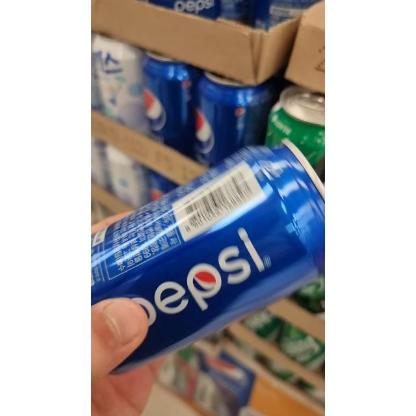Can: (91, 136, 323, 376)
